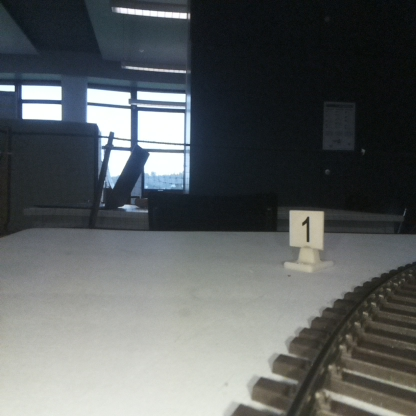white-stop-1: (289, 211, 324, 268)
